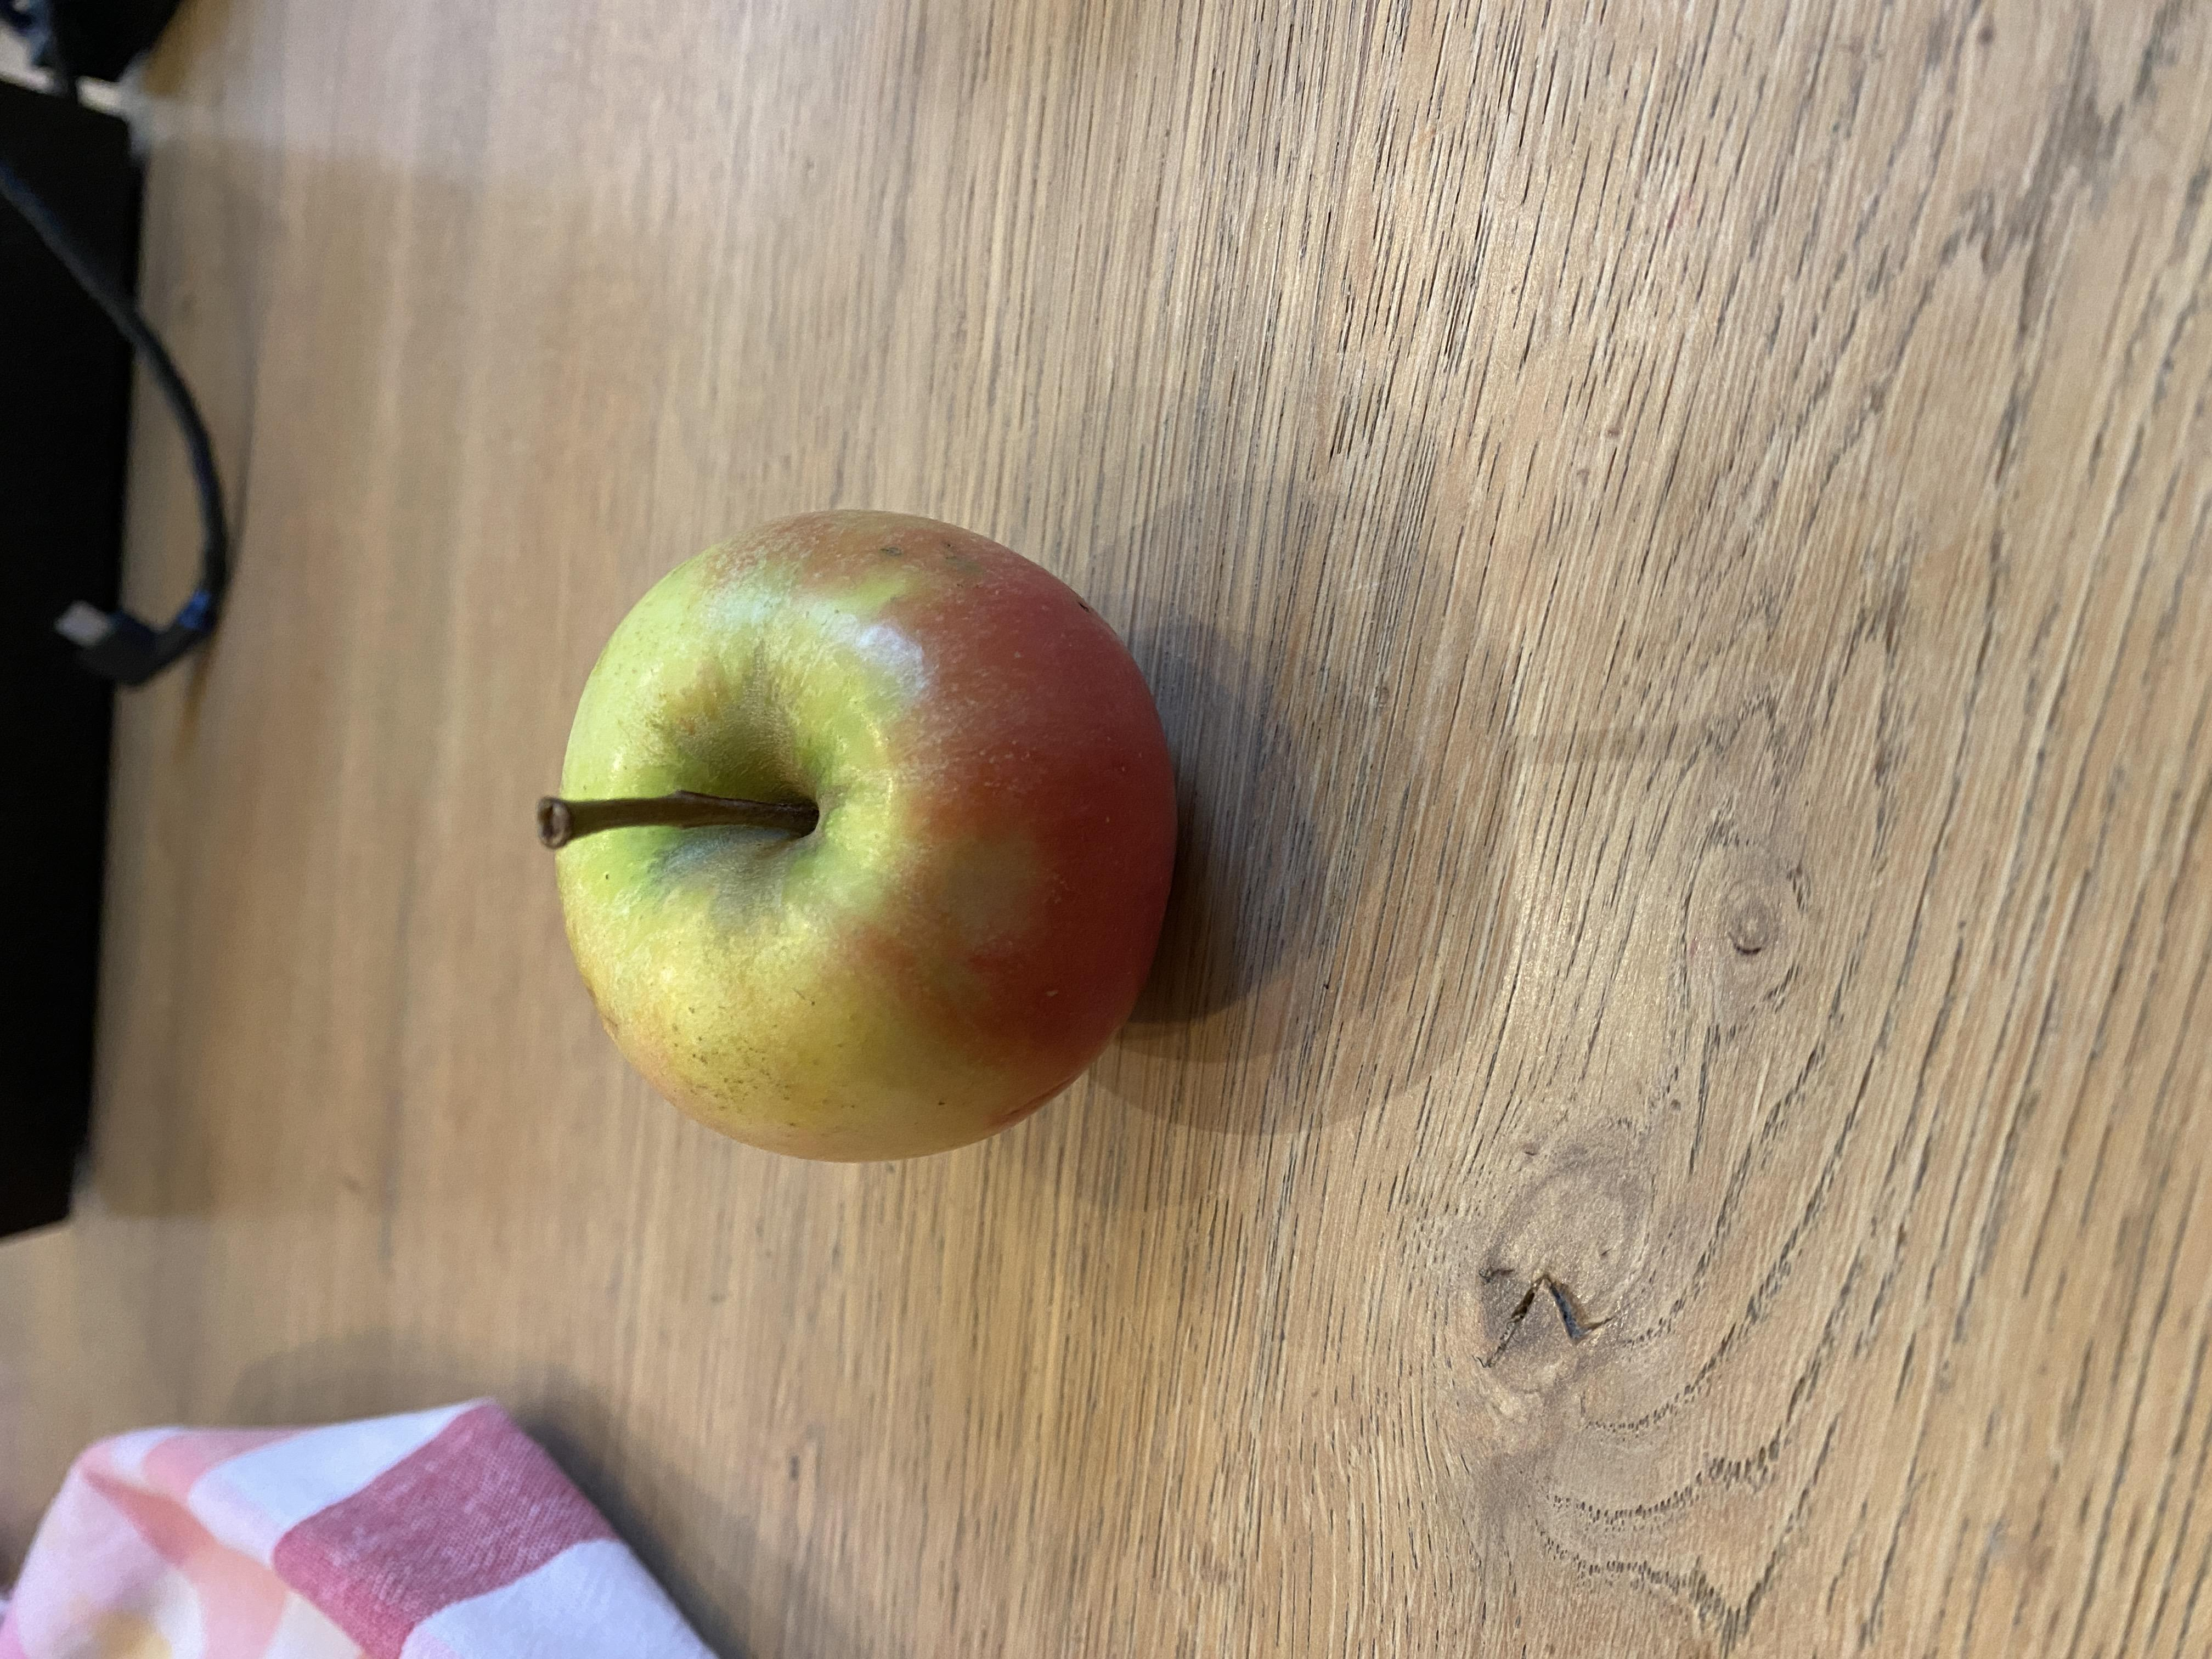Apple: (653, 392, 1536, 899)
